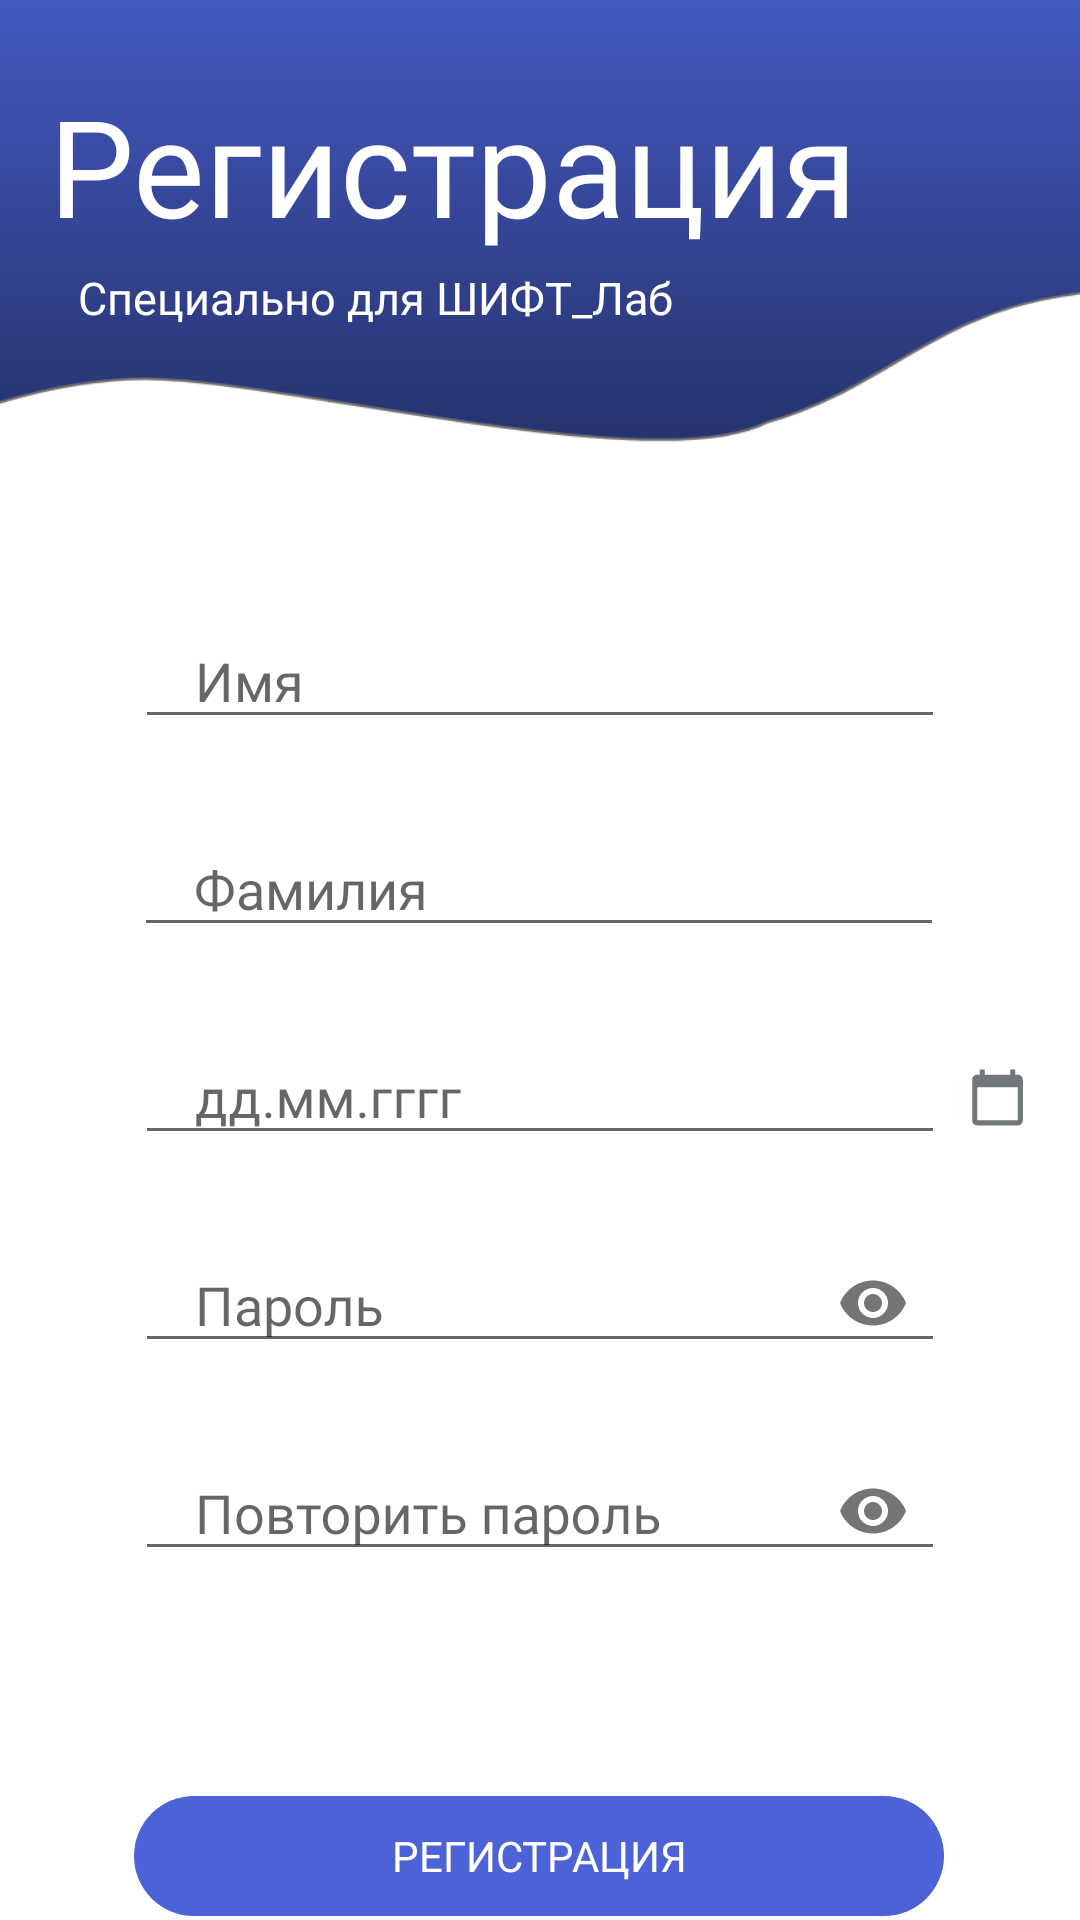

Where to tap for icons on this 1080 × 1920 app screen, as point (x, y):
calendar: point (997, 1097)
